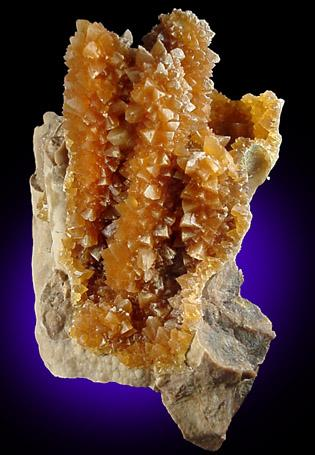calcite: (63, 10, 283, 370)
